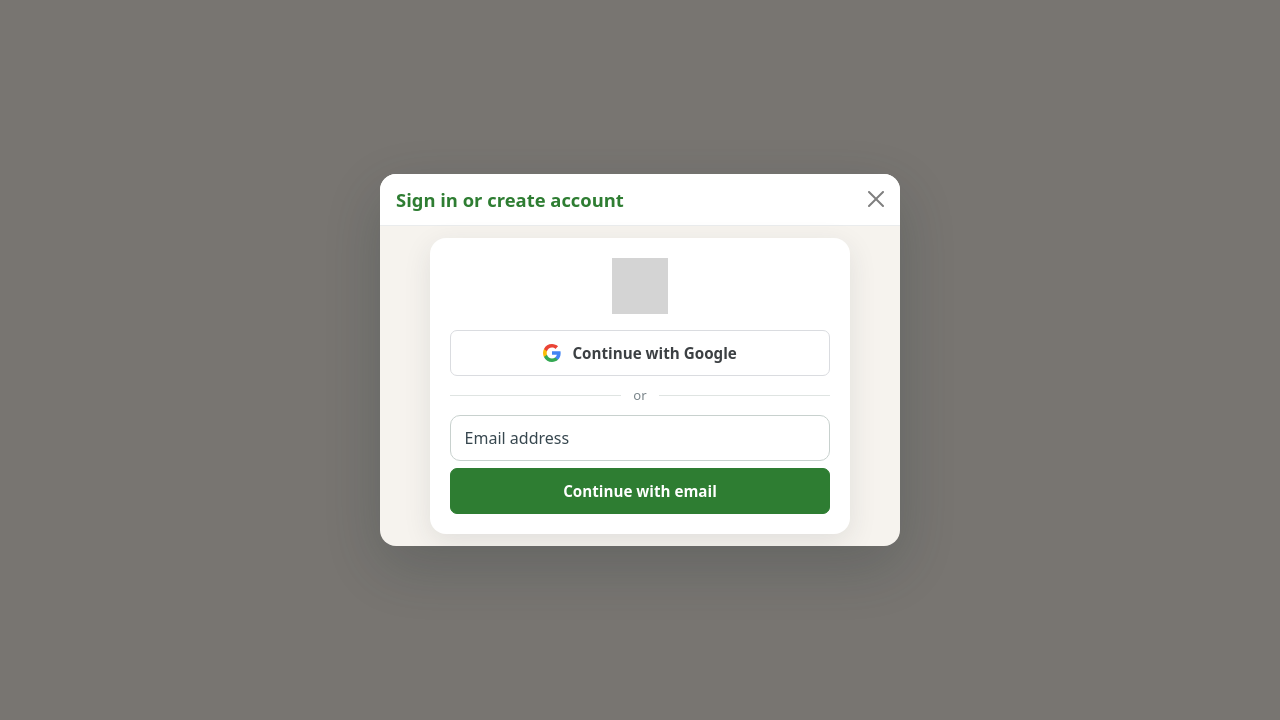
Test: AuthModal › prefills the newly checked email after returning from account creation
Type "miriam@example.com" into the field labelled "Email address" at x=640, y=438, box [451,416,829,460]
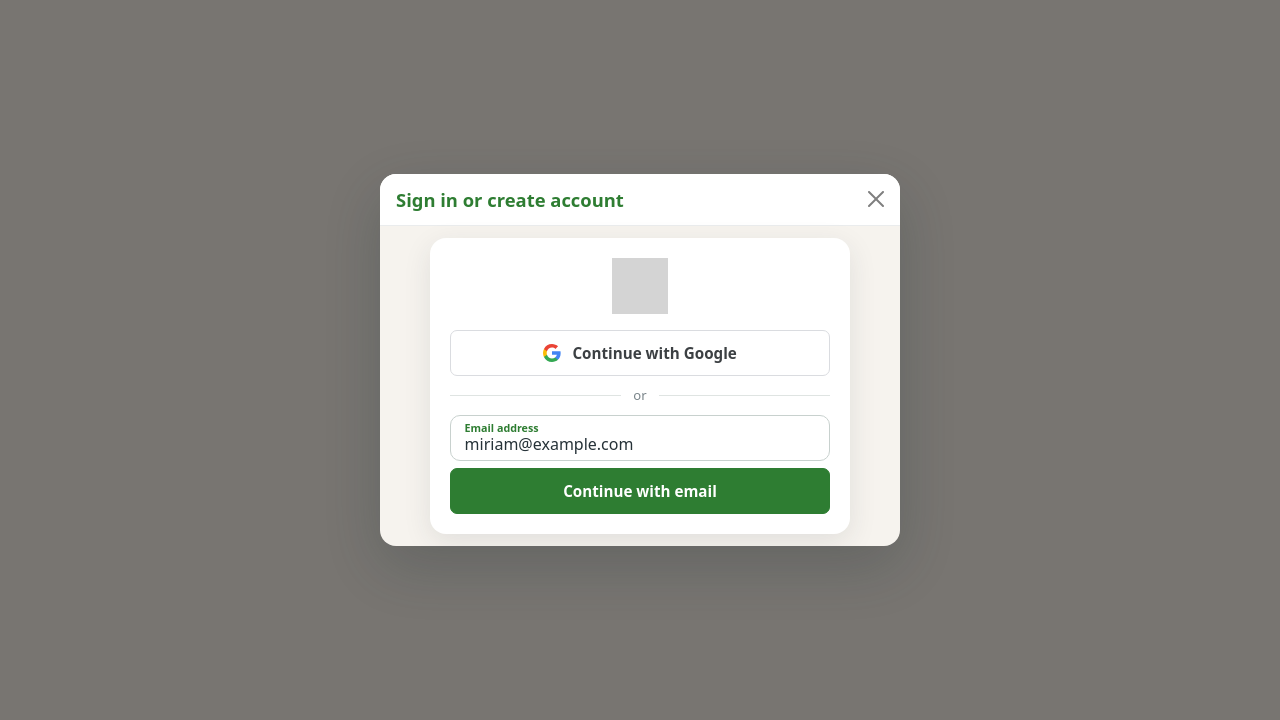
Click the button "Continue with email" at x=640, y=491, box [450,468,830,514]
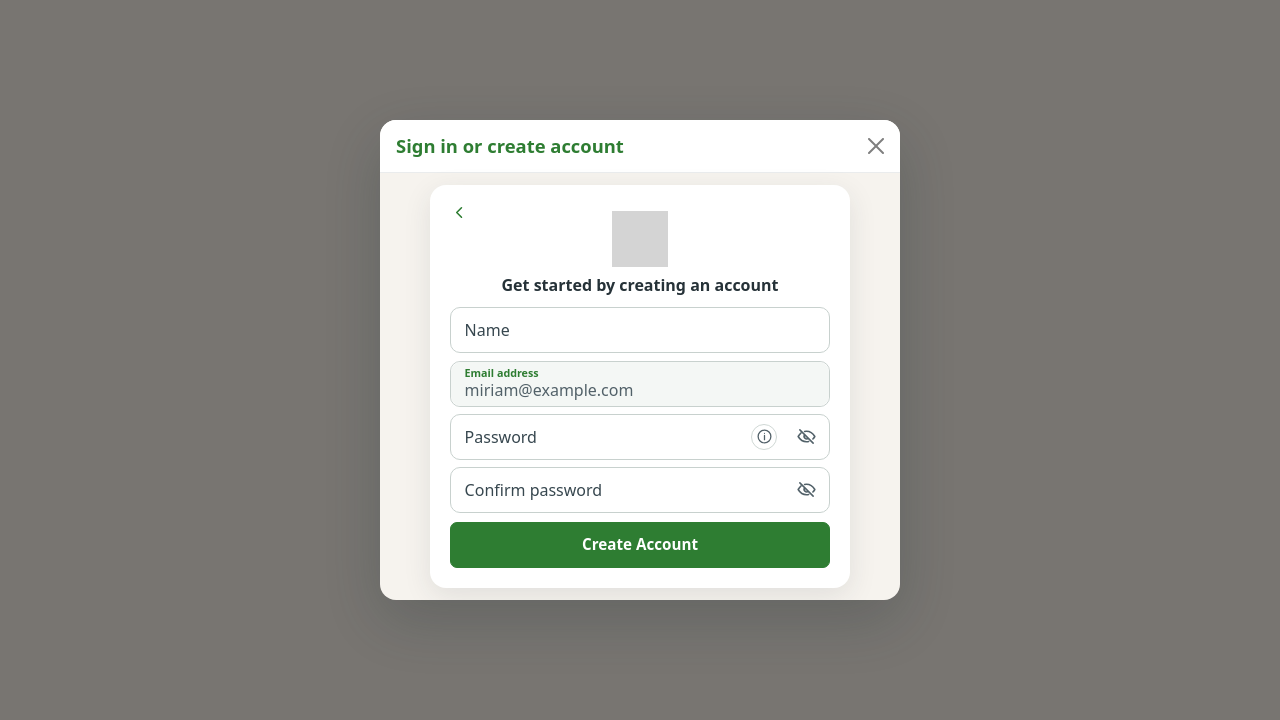
Now the heading "Get started by creating an account" is shown, box [502,274,778,296]
Click the button named "Back" at x=459, y=212, box [442,195,476,229]
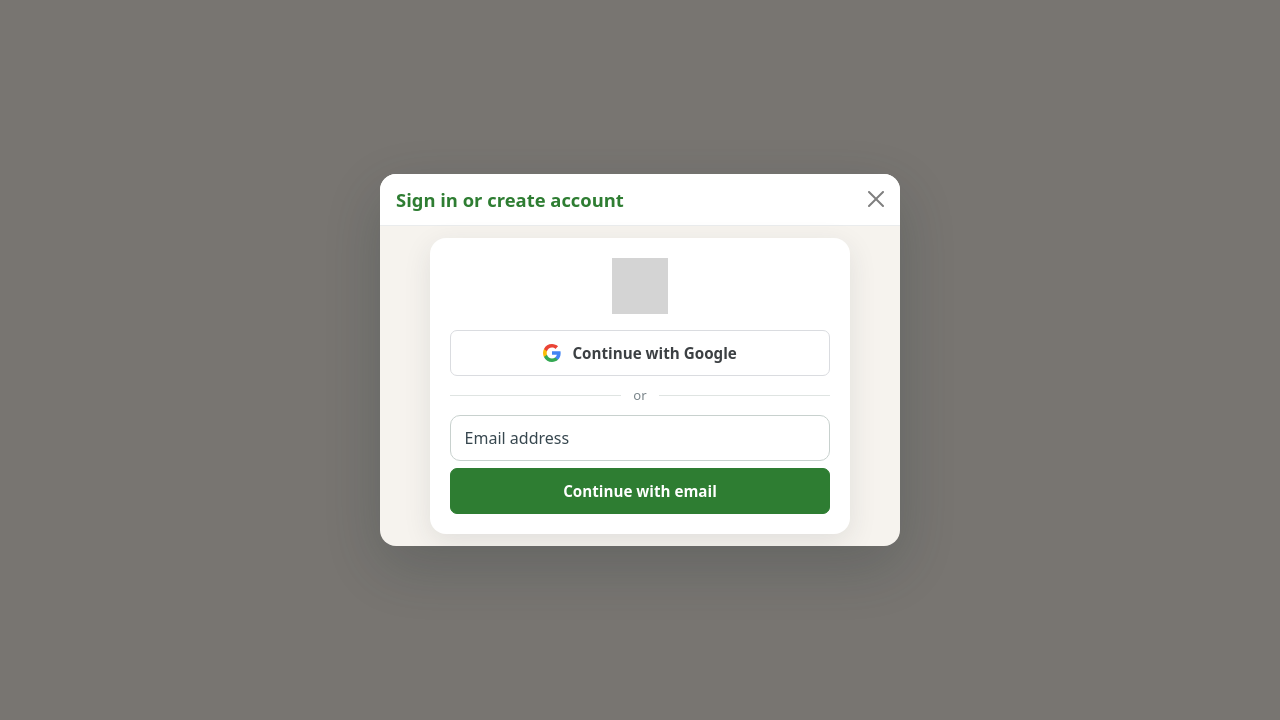
Type "different@example.com" into the field labelled "Email address" at x=640, y=438, box [451,416,829,460]
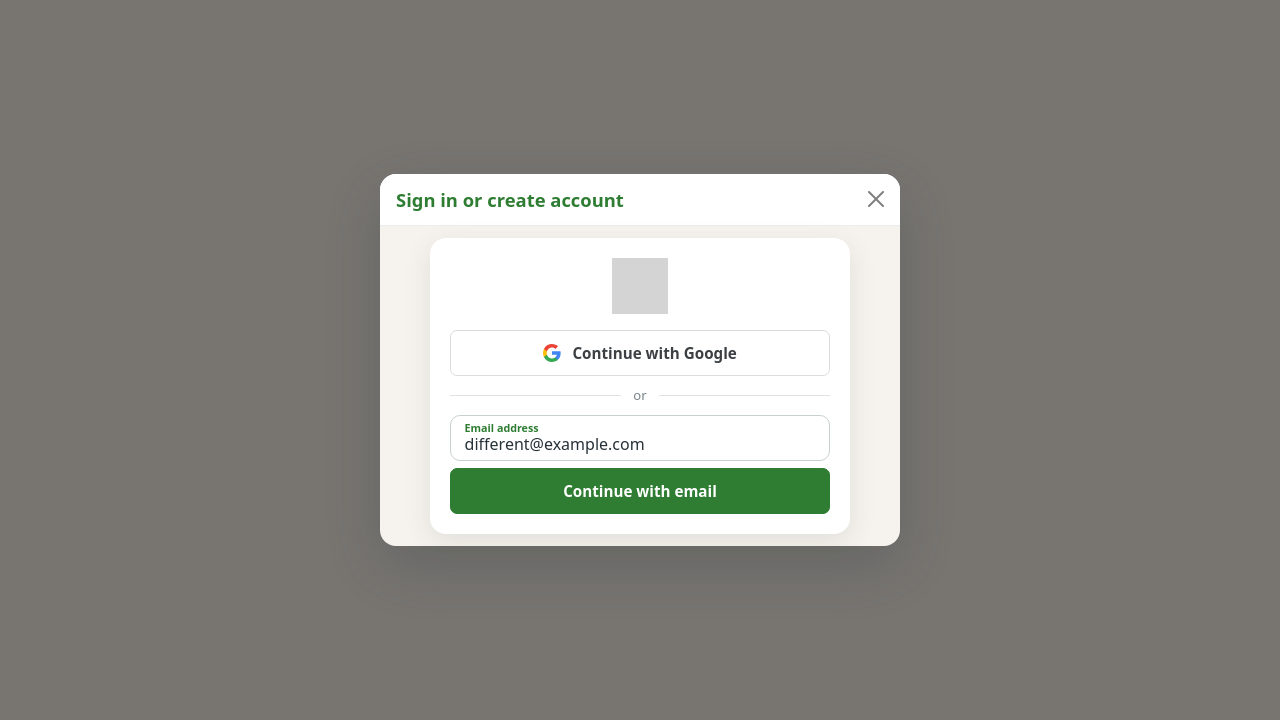
Click the button "Continue with email" at x=640, y=491, box [450,468,830,514]
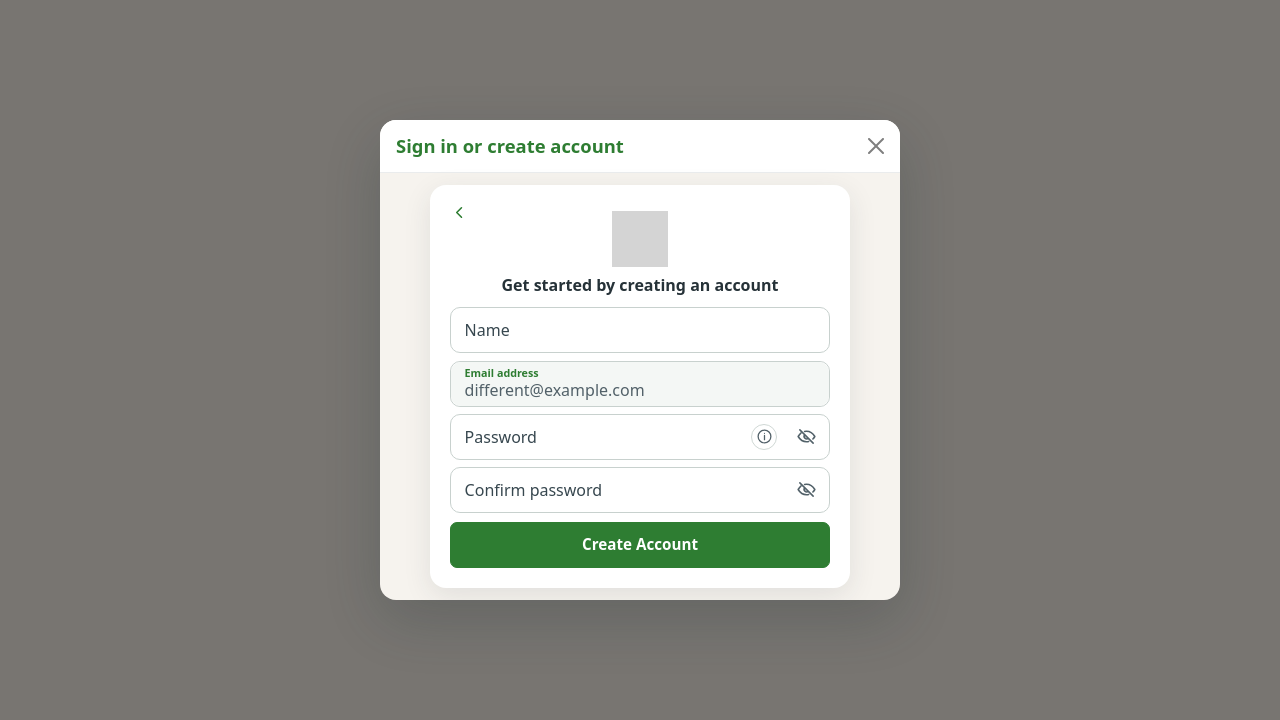
Now the heading "Get started by creating an account" is shown, box [502,274,778,296]
Now the field labelled "Email address" holds "different@example.com", box [451,362,829,406]
Now the field labelled "Email address" does not hold "miriam@example.com", box [451,362,829,406]
